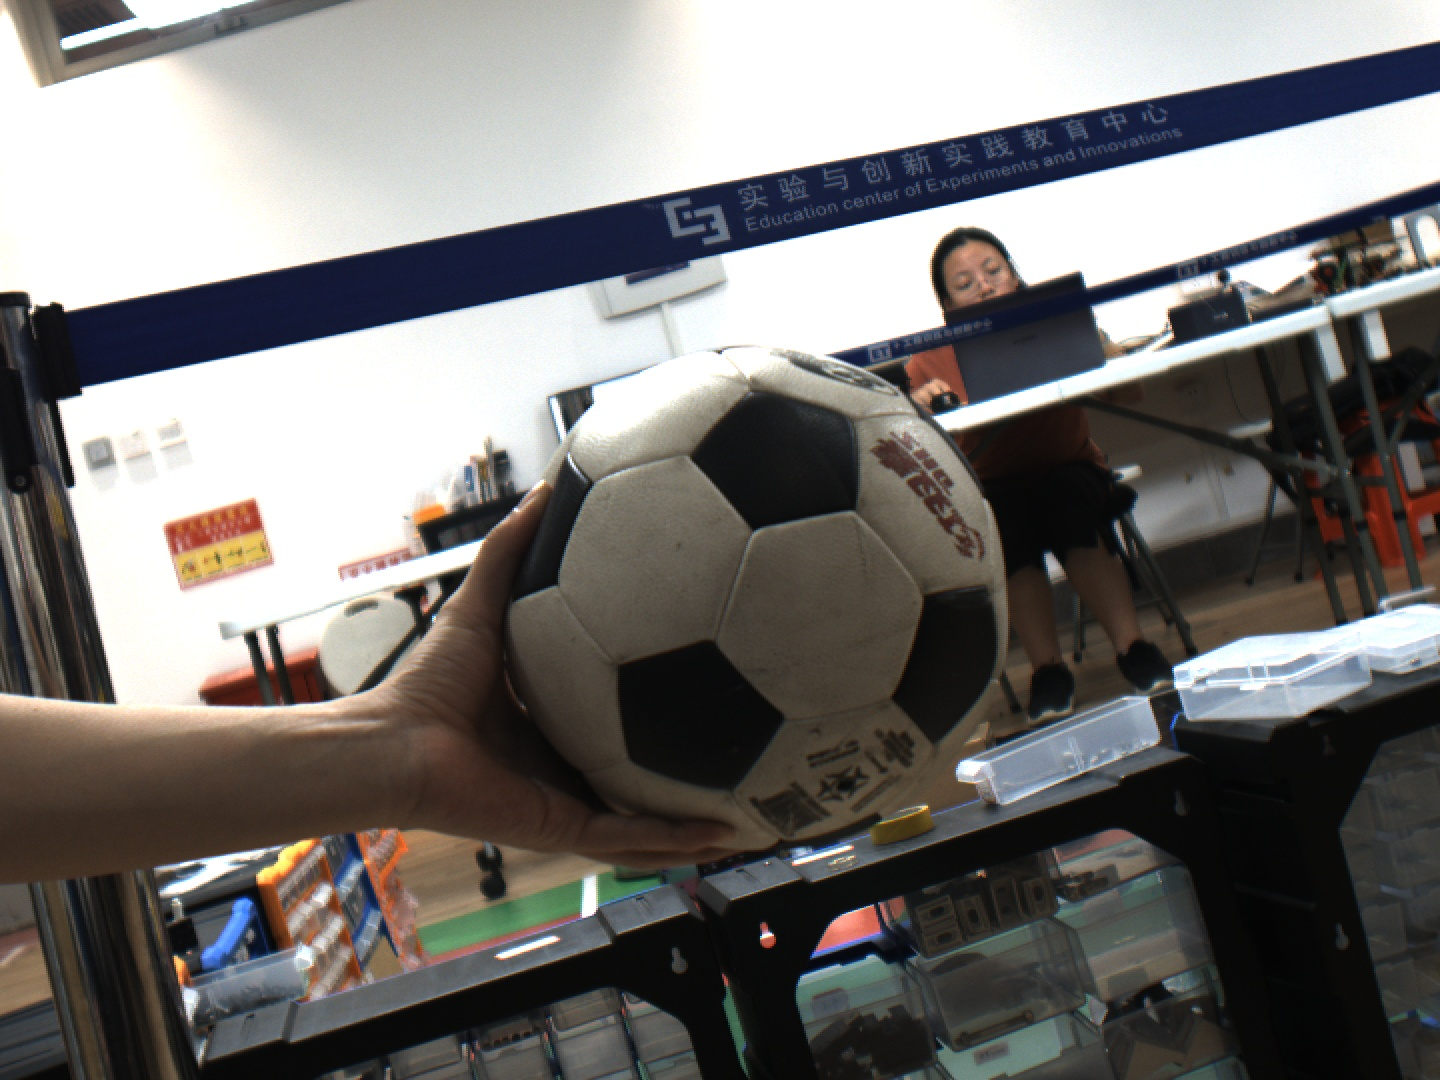ball: (498, 341, 1011, 857)
